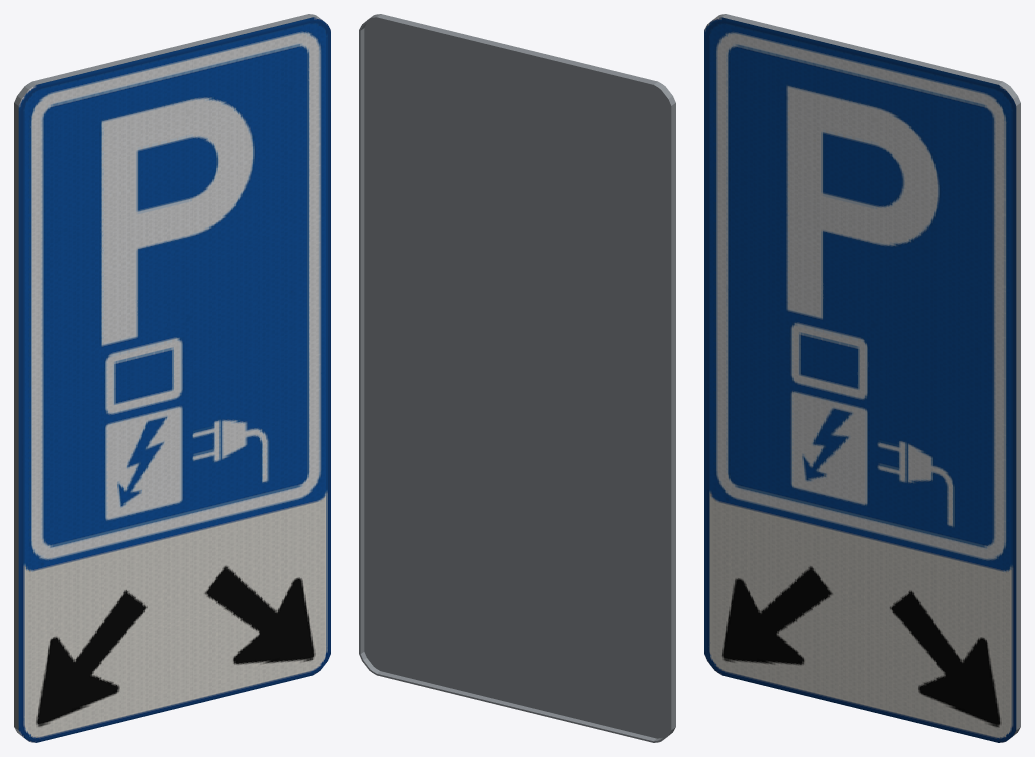
The picture shows the model from 3 angles, left to right: view 1: azimuth 30°, elevation 25°; view 2: azimuth 150°, elevation 25°; view 3: azimuth 330°, elevation 25°; orthographic projection.
Parts seen in each view (by area): view 1: cat_b35f577b292bc574; view 2: cat_b35f577b292bc574; view 3: cat_b35f577b292bc574.
Part boxes in pixels (left/top/right/bottom): cat_b35f577b292bc574: left=14, top=14, right=330, bottom=742; cat_b35f577b292bc574: left=359, top=14, right=675, bottom=742; cat_b35f577b292bc574: left=704, top=14, right=1020, bottom=742.
Size of the model in its own units: 0.6 by 0.015 by 1.21.
2 materials, 1 textured.
